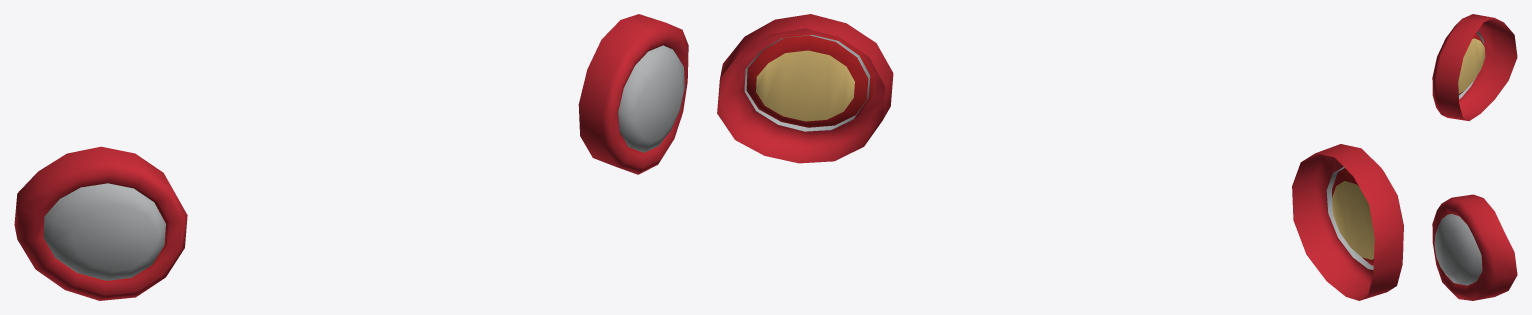
File: Car_02_Headlight_Simple.fbx
The picture shows the model from 3 angles, left to right: view 1: azimuth 30°, elevation 25°; view 2: azimuth 150°, elevation 25°; view 3: azimuth 270°, elevation 25°; orthographic projection. The views are drawn at different scales.
Parts seen in each view (by area): view 1: Car_02_Simple_headlight; view 2: Car_02_Simple_headlight; view 3: Car_02_Simple_headlight.
Boxes of the visible parts, x1,y1,x2,y2 form: Car_02_Simple_headlight: (14, 14, 688, 300); Car_02_Simple_headlight: (717, 14, 1403, 300); Car_02_Simple_headlight: (1432, 14, 1517, 300).
Size of the model in its own units: 173 by 27.5 by 33.7.
